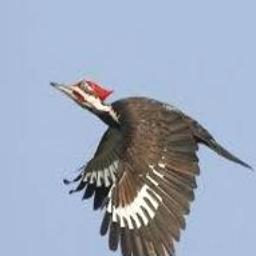Woodpecker: (51, 79, 253, 256)
